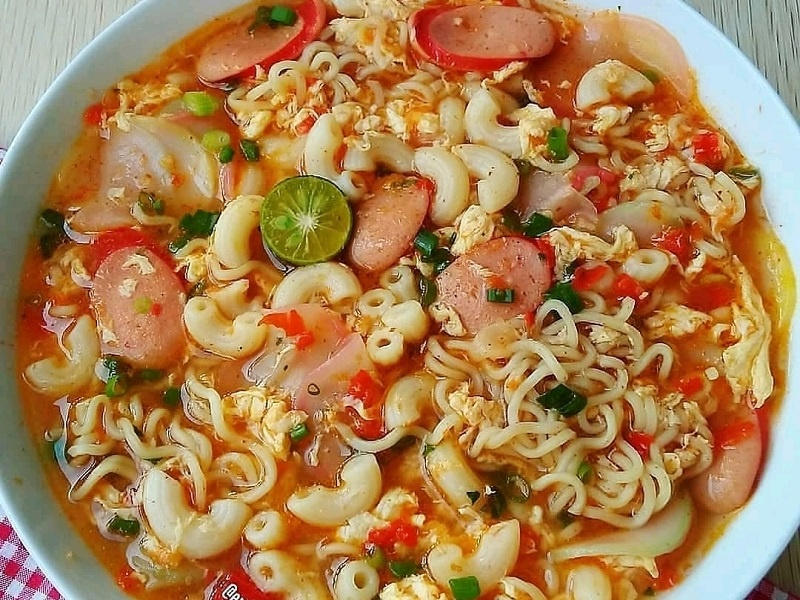seblak: (13, 1, 800, 600)
